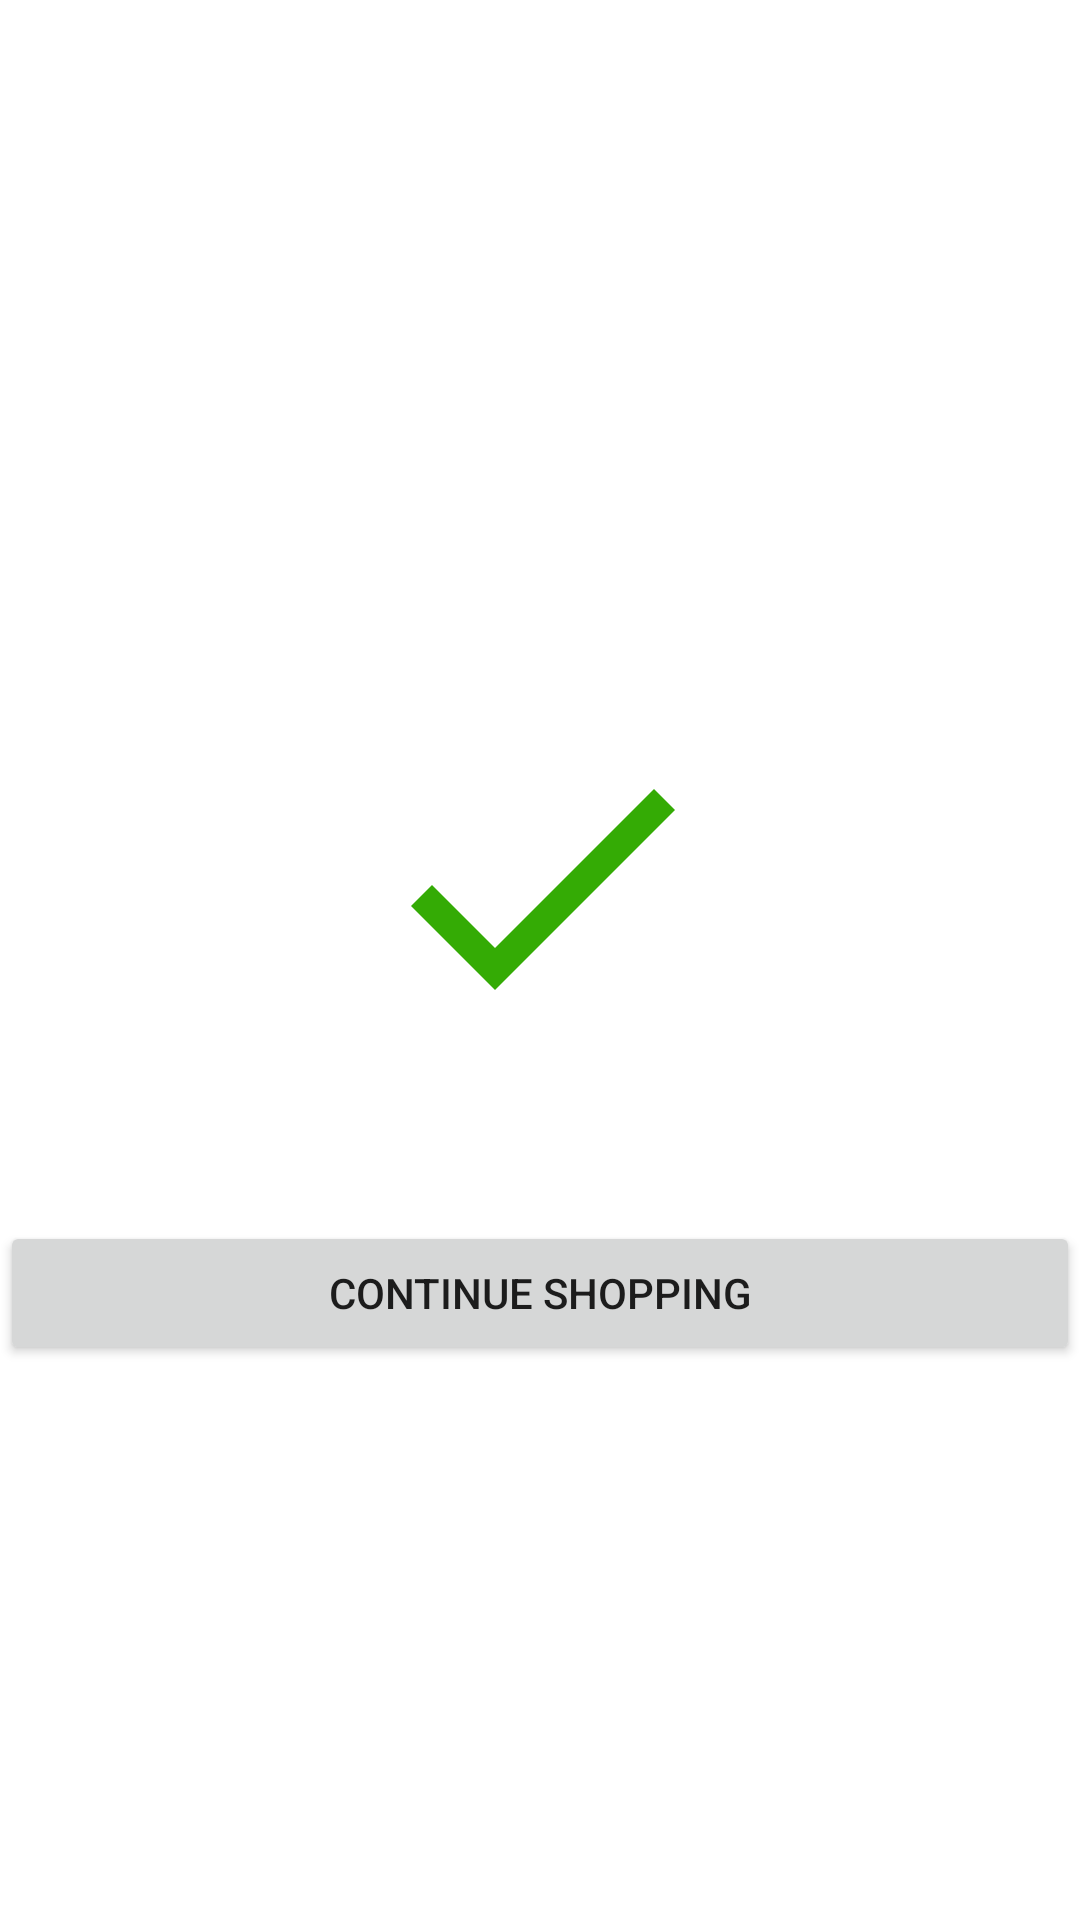

Named icons in this screenshot (1080*1920) and their bounding boxes, (x1, y1, x2, y2):
Booking Successful: (411, 789, 675, 990)
